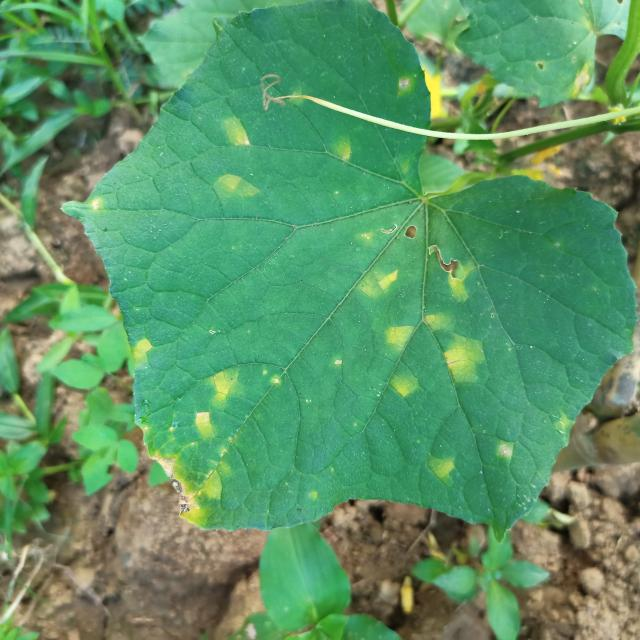disease_cucumber: (344, 223, 491, 418), (163, 356, 238, 525), (203, 109, 265, 212), (322, 130, 358, 178), (422, 446, 463, 484), (122, 328, 152, 372)
